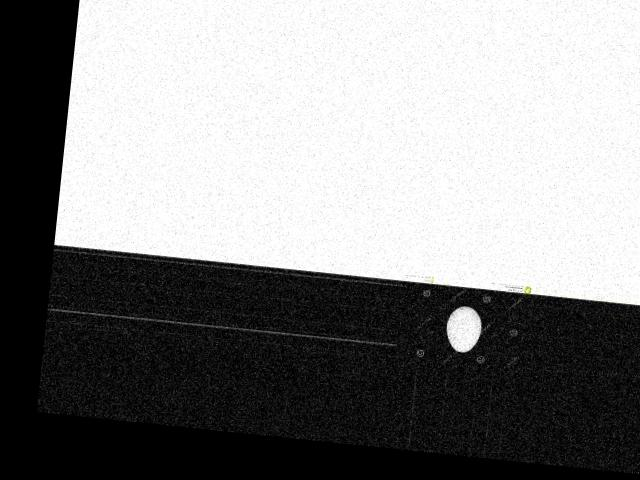egg: (443, 304, 482, 353)
